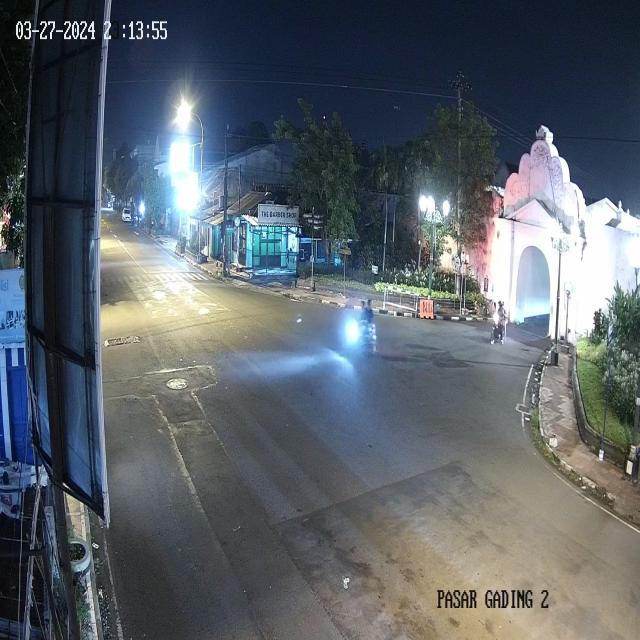motorcycle: (346, 296, 378, 358), (491, 300, 506, 349)
